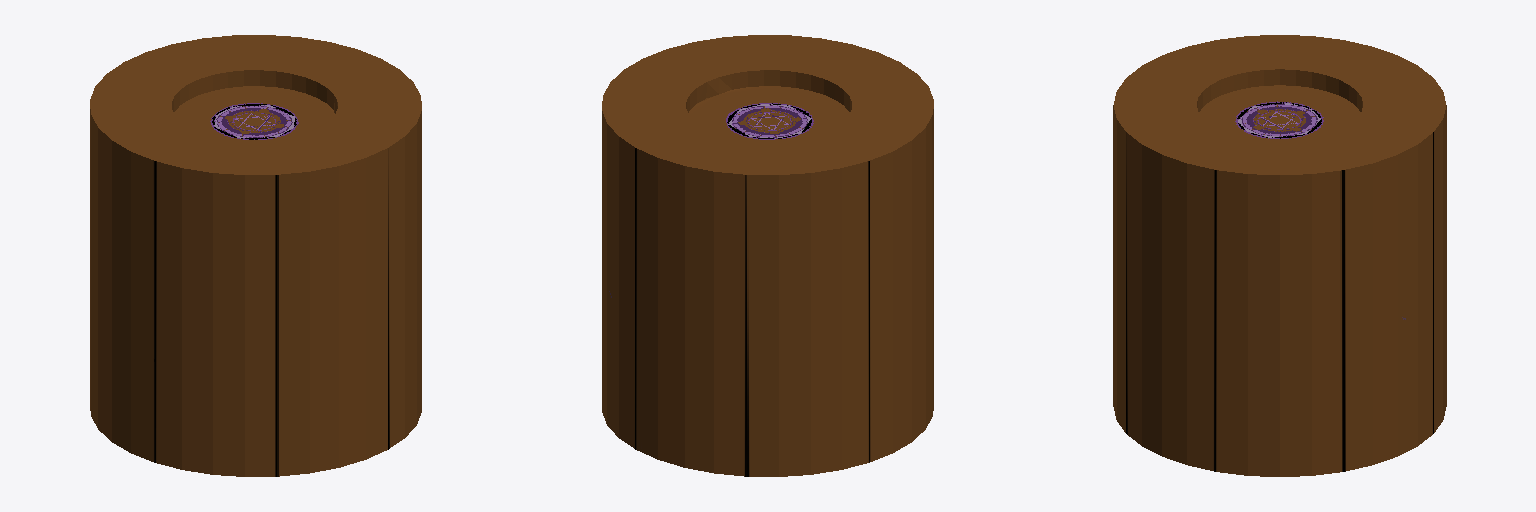
3 views of the same model, side by side, from view 1: azimuth 30°, elevation 25°; view 2: azimuth 150°, elevation 25°; view 3: azimuth 270°, elevation 25° (orthographic).
Parts seen in each view (by area): view 1: 円柱; view 2: 円柱; view 3: 円柱.
Boxes of the visible parts, <box> form: 円柱: <box>90,35,421,476</box>; 円柱: <box>602,35,933,476</box>; 円柱: <box>1113,35,1446,476</box>.
Size of the model in its own units: 2 by 2 by 2.
1 materials, 1 textured.